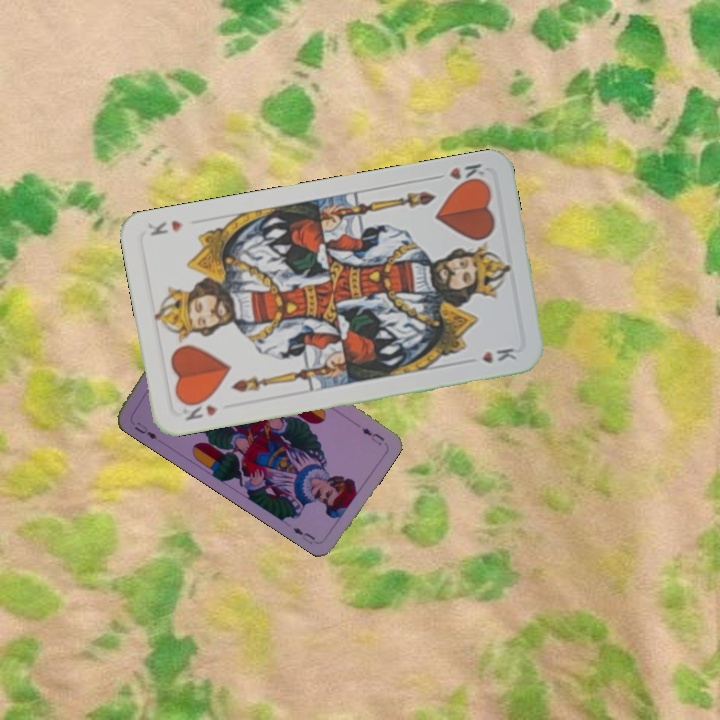EU: (130, 418, 160, 442), (357, 424, 387, 448)
HK: (444, 159, 488, 190), (177, 394, 220, 423)
